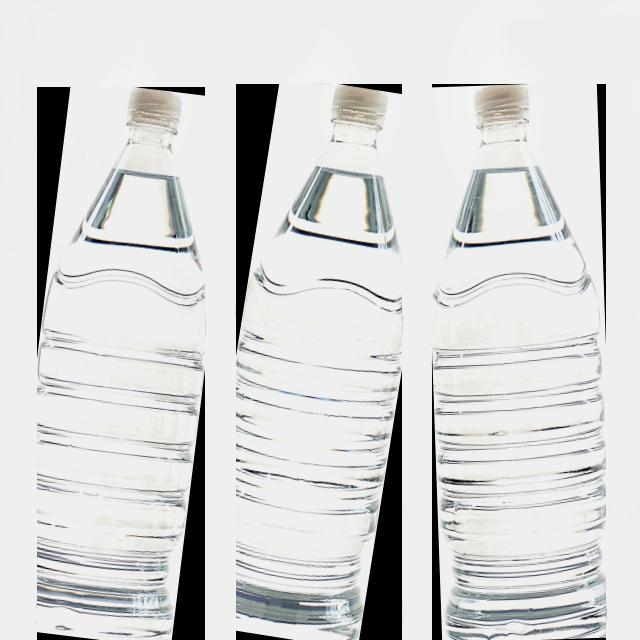Bottle: (433, 85, 605, 639), (38, 88, 204, 639), (237, 85, 401, 639)
